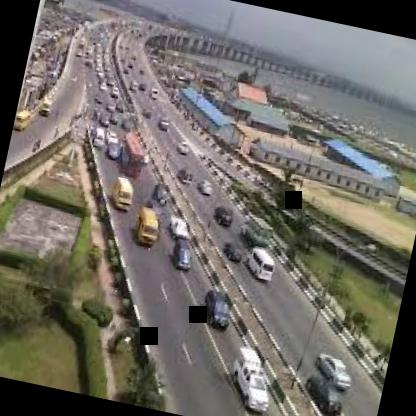car: (220, 338, 280, 416), (235, 240, 290, 294), (298, 362, 350, 416), (194, 276, 240, 336), (94, 161, 140, 219), (126, 194, 166, 258), (310, 343, 360, 393), (228, 205, 281, 249), (110, 124, 150, 182), (168, 234, 196, 280), (206, 199, 238, 233), (218, 235, 246, 270), (193, 175, 220, 202), (172, 132, 194, 162), (176, 162, 200, 188)
